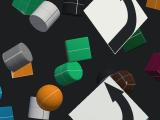Left: (68, 76, 148, 120), (84, 0, 148, 54)
